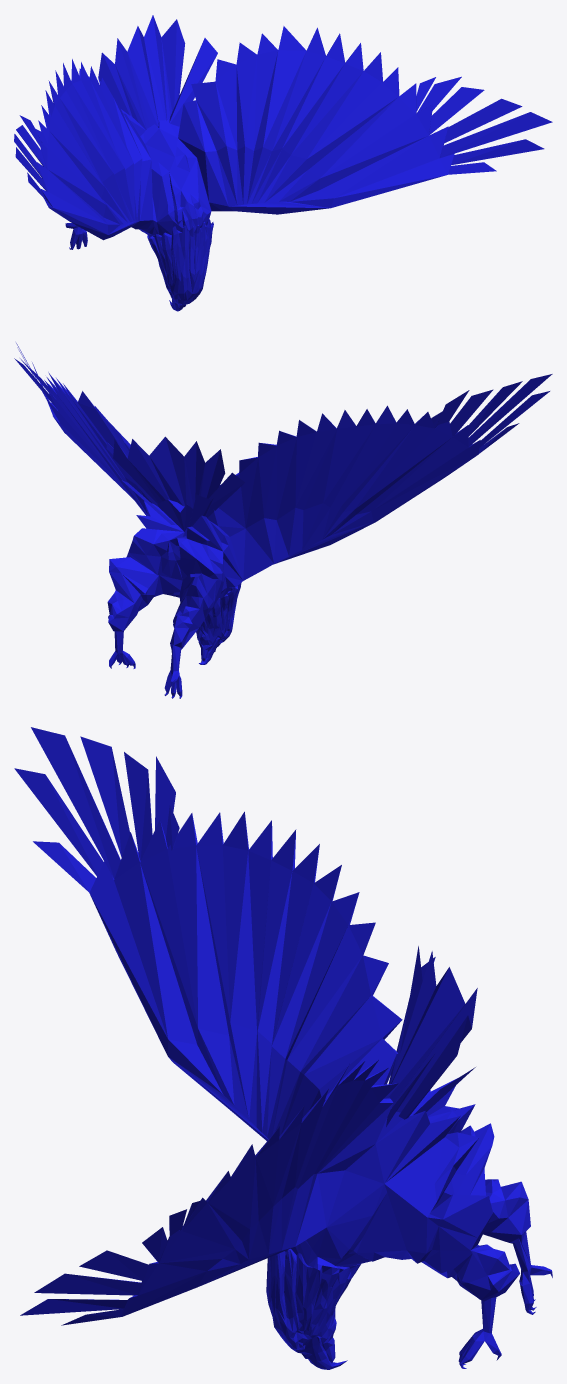
The model's file is eagle.obj.
3 renders of one model, top to bottom at view 1: azimuth 30°, elevation 25°; view 2: azimuth 150°, elevation 25°; view 3: azimuth 270°, elevation 25°, orthographic. The views are drawn at different scales.
Size of the model in its own units: 3386 by 1725 by 1865.
